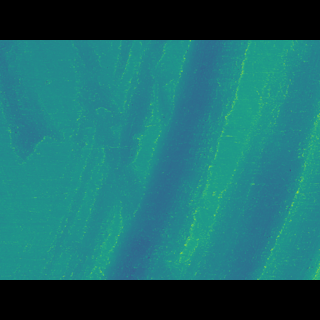Loch: (74, 69, 320, 249)
